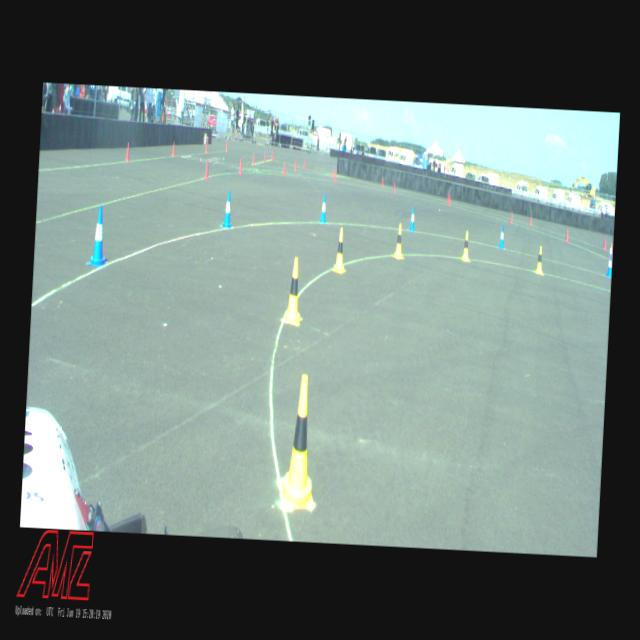blue_cone: (88, 205, 110, 268), (222, 190, 234, 228), (320, 194, 328, 223), (409, 206, 416, 232), (498, 226, 505, 249), (606, 254, 612, 278)
orange_cone: (608, 243, 613, 261)
unknown_cone: (203, 160, 210, 180), (126, 142, 130, 162), (239, 158, 243, 174), (565, 228, 569, 243), (172, 142, 176, 156), (252, 153, 256, 166), (602, 237, 606, 250), (283, 162, 286, 176), (448, 193, 451, 206), (510, 211, 513, 224), (529, 213, 532, 226), (294, 159, 297, 171), (303, 158, 306, 170), (334, 170, 337, 182), (393, 181, 396, 193), (264, 151, 267, 162), (332, 166, 335, 177), (447, 192, 450, 202), (206, 142, 208, 154), (382, 176, 384, 188), (226, 141, 228, 152), (272, 150, 274, 160)
yellow_cone: (280, 373, 320, 510), (284, 256, 304, 325), (332, 228, 347, 274), (394, 224, 404, 258), (461, 230, 471, 262), (535, 246, 545, 275)
